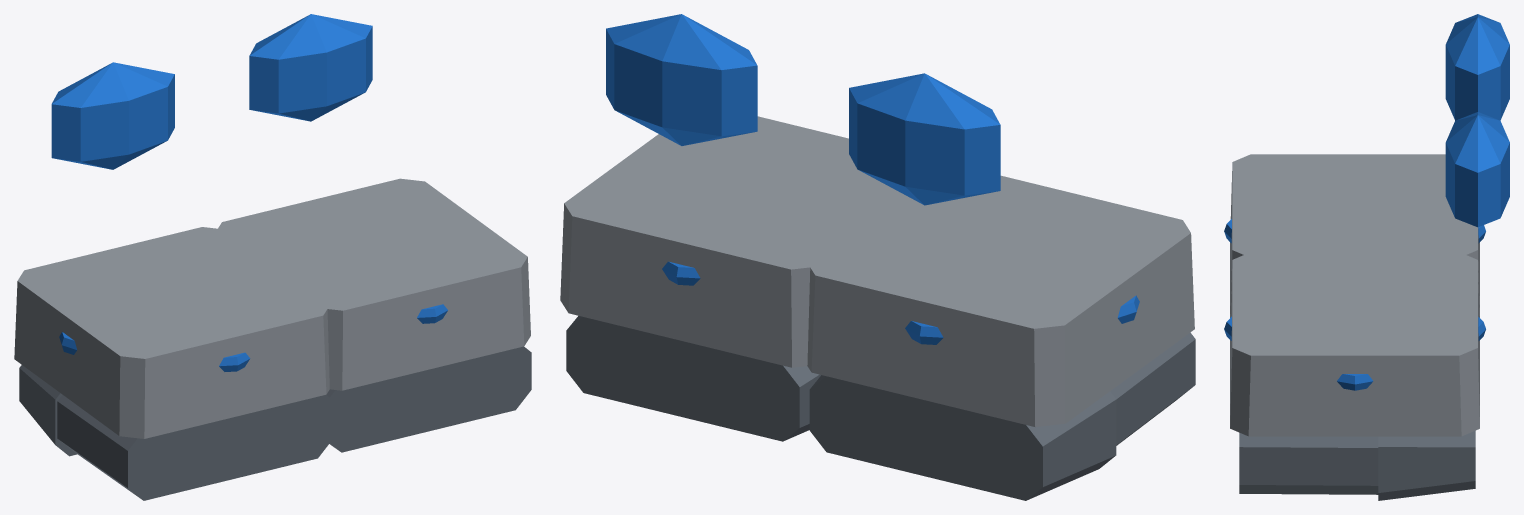
File: shoes_greatsword_s3.fbx
The picture shows the model from 3 angles, left to right: view 1: azimuth 30°, elevation 25°; view 2: azimuth 150°, elevation 25°; view 3: azimuth 270°, elevation 25°; orthographic projection. The views are drawn at different scales.
Parts seen in each view (by area): view 1: Greave_L_Body, Greave_R_Body, Boot_L_Inner, Boot_R_Inner, Greave_L_Band, Greave_R_Band; view 2: Greave_L_Body, Greave_R_Body, Boot_L_Inner, Boot_R_Inner, Greave_L_Band, Greave_R_Band; view 3: Greave_R_Body, Greave_L_Body, Boot_R_Inner, Greave_R_Band, Greave_L_Band.
Boxes of the visible parts, bbox=[...] form: Greave_L_Body: bbox=[14, 227, 329, 438]; Greave_R_Body: bbox=[218, 178, 530, 390]; Boot_L_Inner: bbox=[19, 365, 333, 500]; Boot_R_Inner: bbox=[326, 346, 531, 452]; Greave_L_Band: bbox=[51, 62, 250, 371]; Greave_R_Band: bbox=[249, 14, 447, 323]; Greave_L_Body: bbox=[807, 175, 1194, 426]; Greave_R_Body: bbox=[560, 116, 912, 367]; Boot_L_Inner: bbox=[809, 332, 1195, 500]; Boot_R_Inner: bbox=[566, 315, 820, 441]; Greave_L_Band: bbox=[849, 73, 1139, 344]; Greave_R_Band: bbox=[606, 14, 757, 285]; Greave_R_Body: bbox=[1230, 252, 1479, 436]; Greave_L_Body: bbox=[1230, 154, 1479, 317]; Boot_R_Inner: bbox=[1239, 430, 1475, 500]; Greave_R_Band: bbox=[1224, 112, 1509, 390]; Greave_L_Band: bbox=[1224, 14, 1509, 243].
Size of the model in its own units: 213 by 162 by 123.
